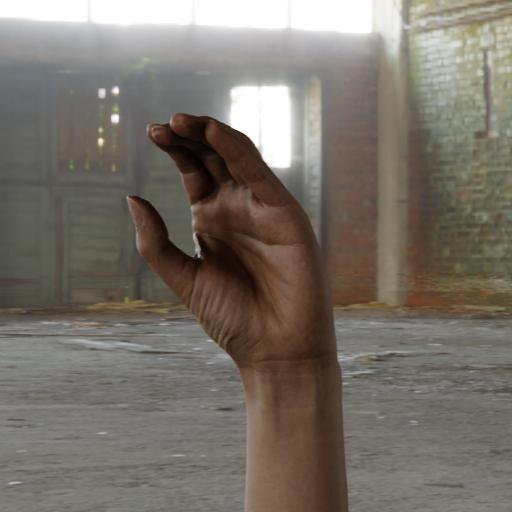C: (105, 107, 340, 400)
